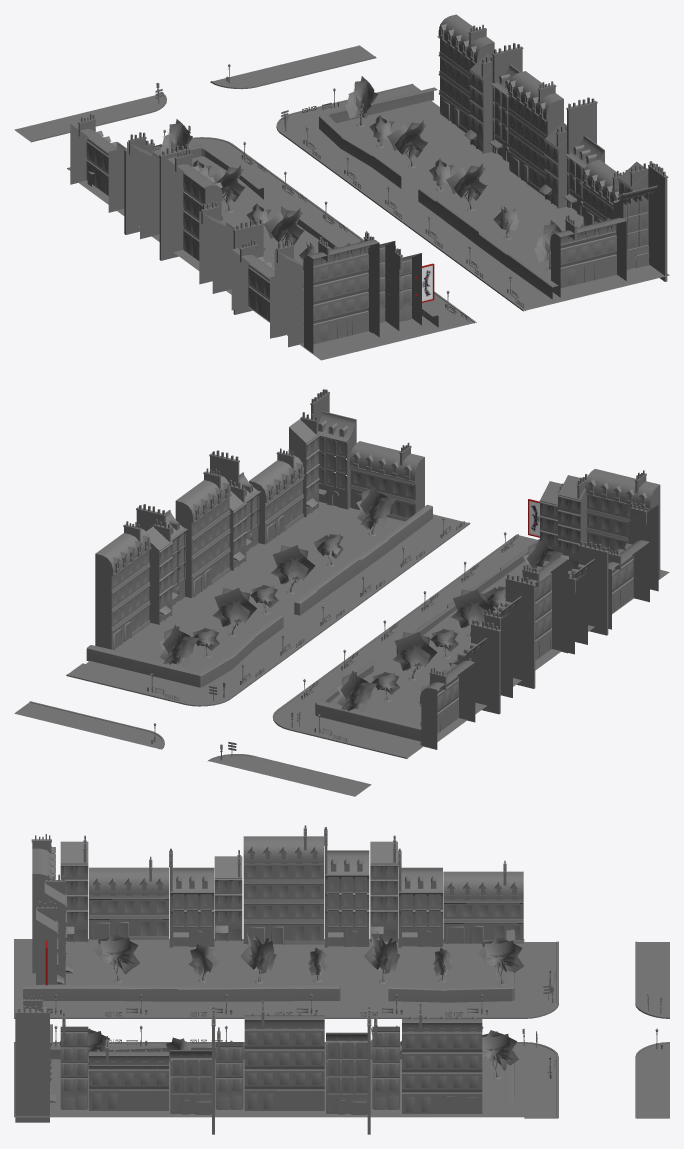
The model's file is Chunk_01_park.fbx.
3 views of the same model, one above another, from view 1: azimuth 30°, elevation 25°; view 2: azimuth 150°, elevation 25°; view 3: azimuth 270°, elevation 25° (orthographic). The views are drawn at different scales.
Parts seen in each view (by area): view 1: ParkBuilding, ParkVegetation, Park_StreetAssets; view 2: ParkBuilding, ParkVegetation, Park_StreetAssets; view 3: ParkBuilding, ParkVegetation, Park_StreetAssets.
Part boxes in pixels (bbox=[...]): ParkBuilding: bbox=[14, 14, 668, 353]; ParkVegetation: bbox=[78, 76, 669, 360]; Park_StreetAssets: bbox=[154, 64, 523, 321]; ParkBuilding: bbox=[14, 389, 660, 796]; ParkVegetation: bbox=[86, 485, 669, 747]; Park_StreetAssets: bbox=[146, 517, 518, 760]; ParkBuilding: bbox=[14, 825, 669, 1134]; ParkVegetation: bbox=[14, 929, 524, 1117]; Park_StreetAssets: bbox=[48, 969, 663, 1078].
Bounding box in the file's own units: 32069 × 9037 × 45000.
8 materials, 1 textured.
